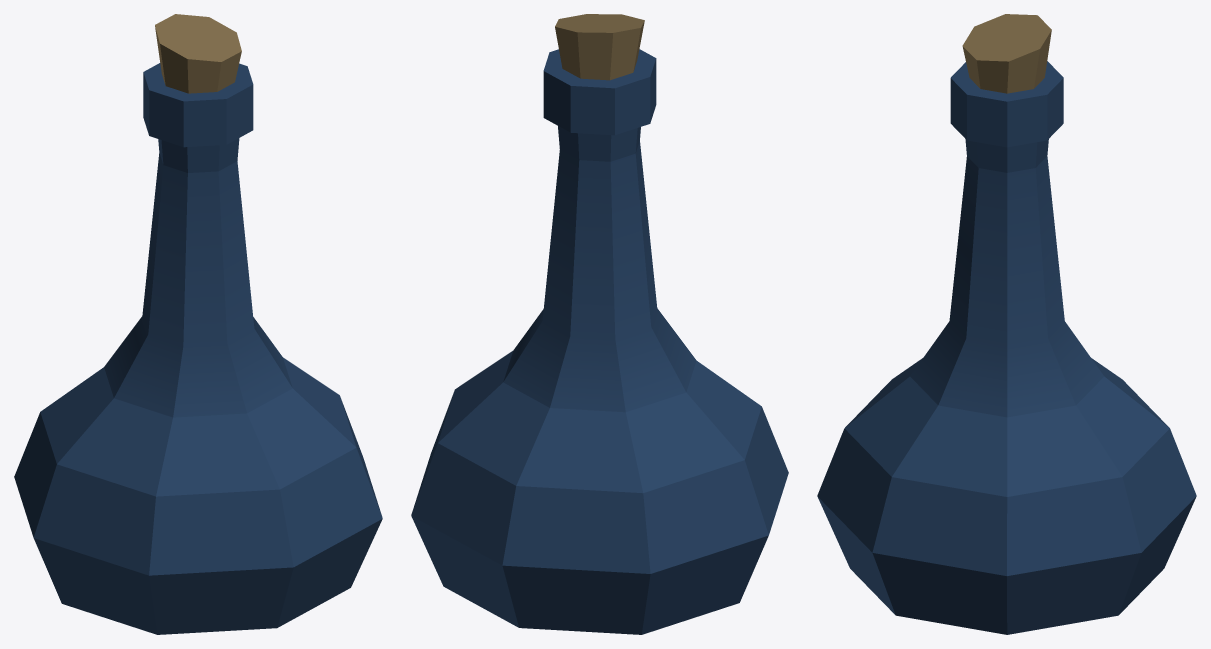
File: SM_Item_Bottle_04.glb
The picture shows the model from 3 angles, left to right: view 1: azimuth 30°, elevation 25°; view 2: azimuth 150°, elevation 25°; view 3: azimuth 270°, elevation 25°; orthographic projection. The views are drawn at different scales.
Parts seen in each view (by area): view 1: SM_Item_Bottle_04; view 2: SM_Item_Bottle_04; view 3: SM_Item_Bottle_04.
Boxes of the visible parts, <box> form: SM_Item_Bottle_04: <box>14,14,382,634</box>; SM_Item_Bottle_04: <box>411,14,788,634</box>; SM_Item_Bottle_04: <box>817,14,1196,634</box>.
Size of the model in its own units: 0.00166 by 0.00261 by 0.00166.
